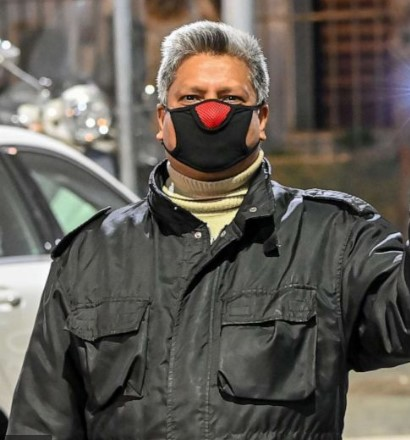face_with_mask: (156, 29, 270, 177)
